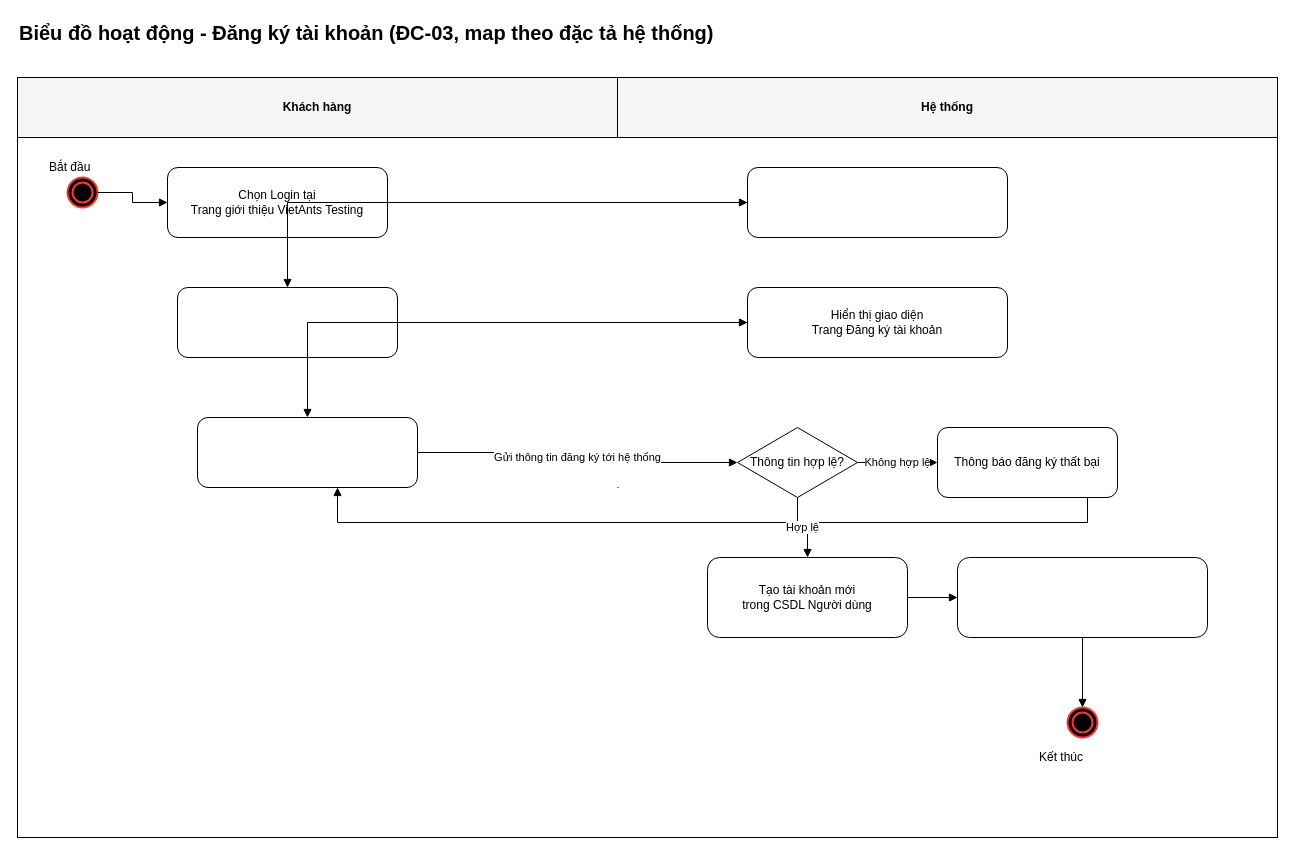
This 1295x855 diagram has some shape labels left out. The centre of each missing label's shape, as x and y in pixels:
Chọn Đăng ký tài khoản: [287,322]
Hiển thị giao diện Trang Đăng nhập: [877,202]
Nhập email, password, confirmPassword và gửi: [307,452]
Thông báo thành công và chuyển về Trang Đăng nhập: [1082,597]
